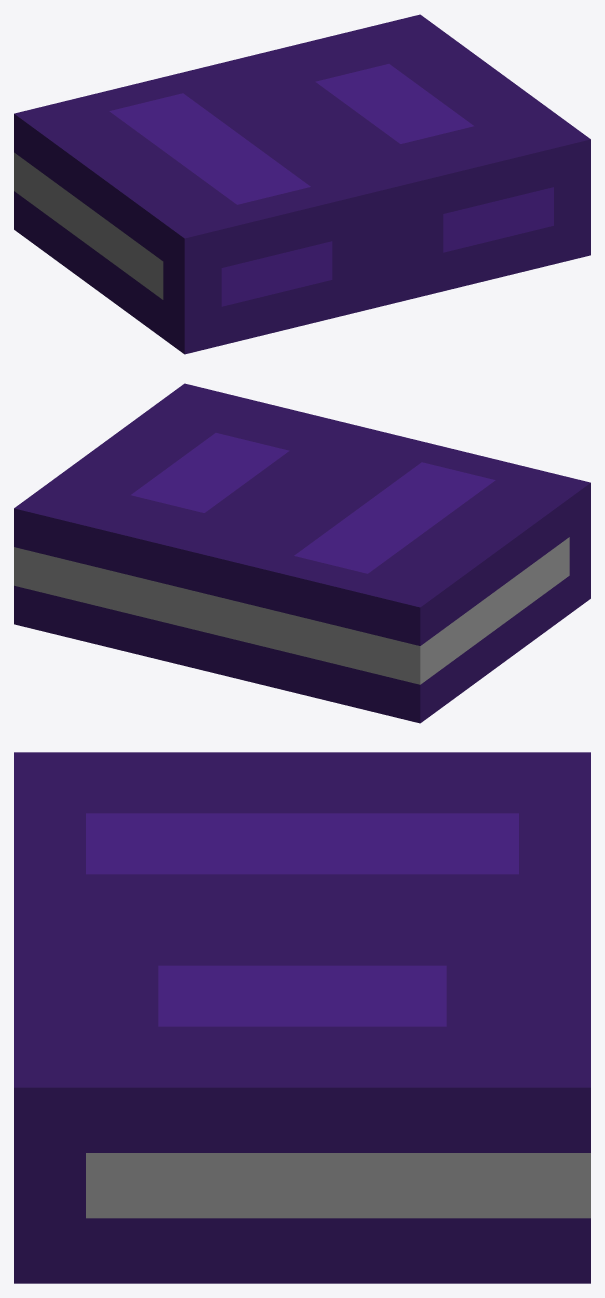
Rendered from Decor-3.obj.
3 views of the same model, one above another, from view 1: azimuth 30°, elevation 25°; view 2: azimuth 150°, elevation 25°; view 3: azimuth 270°, elevation 25° (orthographic). The views are drawn at different scales.
Size of the model in its own units: 1.1 by 0.3 by 0.8.
1 material, 1 textured.
